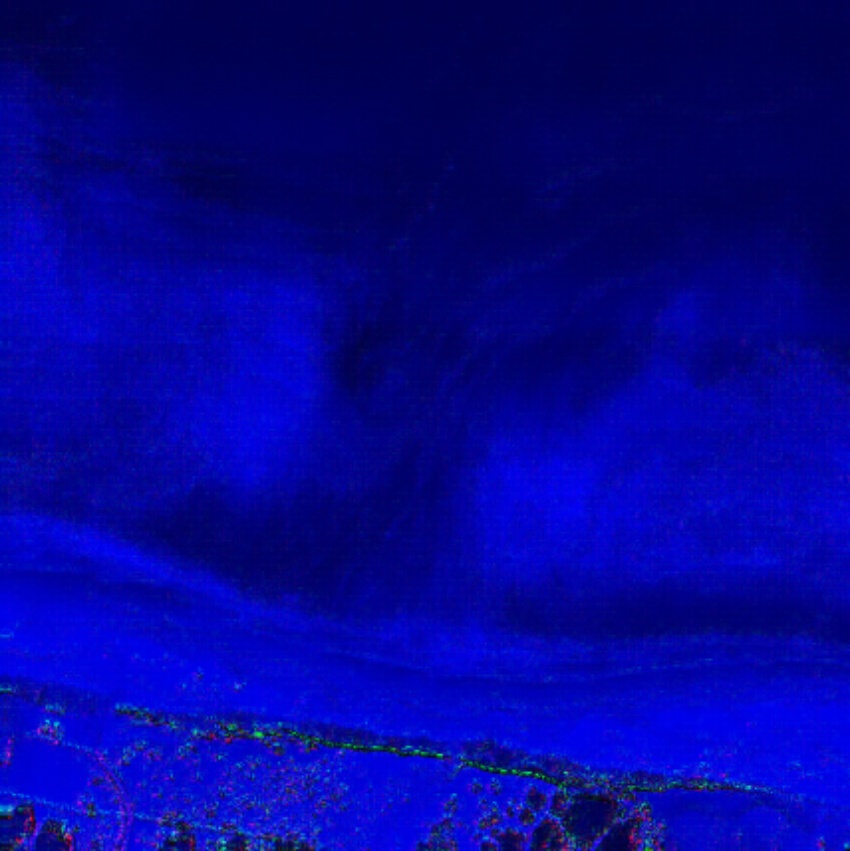rip_current: (255, 196, 641, 610)
